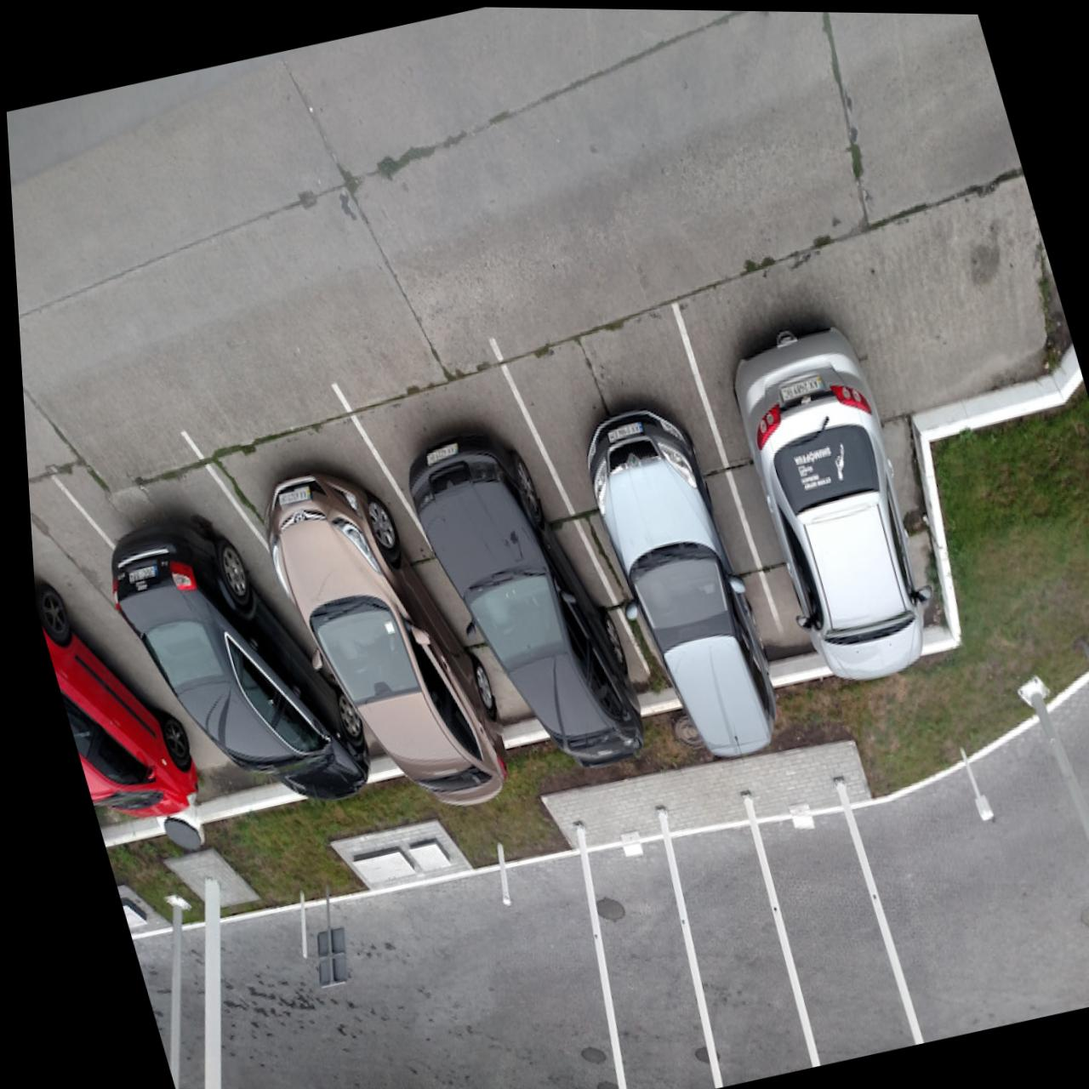cars: (343, 327, 660, 761), (226, 379, 541, 794), (504, 303, 798, 705), (682, 264, 965, 664), (89, 433, 377, 810), (28, 476, 246, 863)
